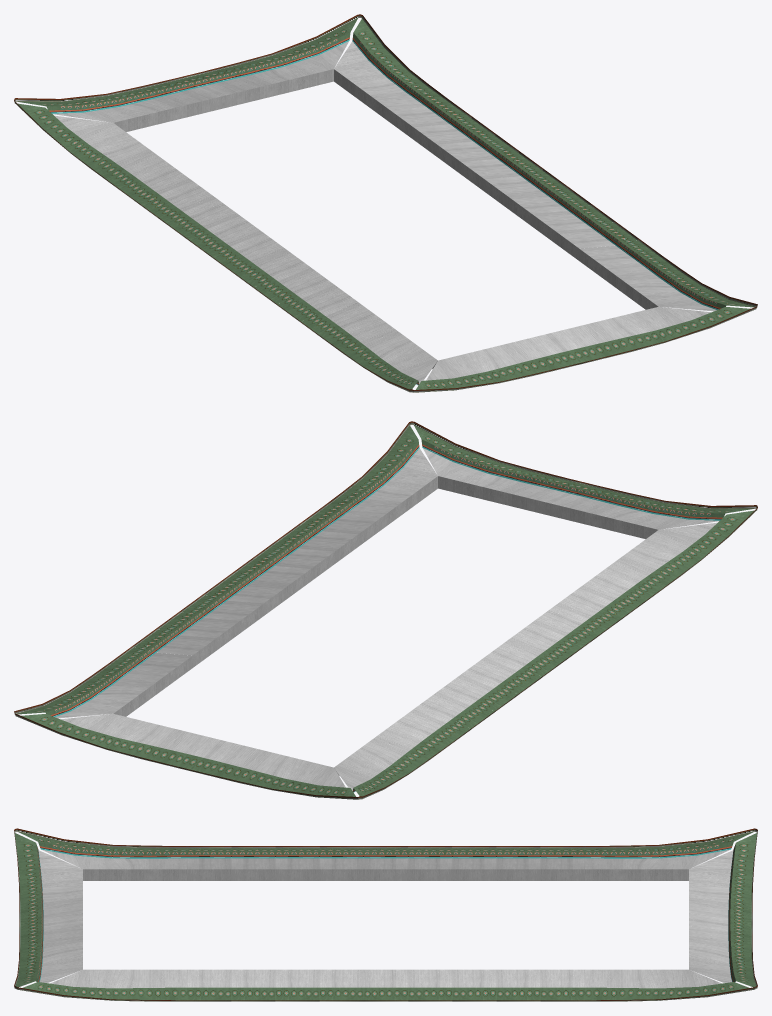
Rendered from SM_Roofplate08A.fbx.
3 views of the same model, one above another, from view 1: azimuth 30°, elevation 25°; view 2: azimuth 150°, elevation 25°; view 3: azimuth 270°, elevation 25° (orthographic). The views are drawn at different scales.
Parts seen in each view (by area): view 1: SM_Roofplate08A; view 2: SM_Roofplate08A; view 3: SM_Roofplate08A.
Part boxes in pixels (x1,y1,x2,y2): SM_Roofplate08A: [14, 14, 757, 392]; SM_Roofplate08A: [14, 421, 757, 799]; SM_Roofplate08A: [14, 828, 757, 1001].
Bounding box in the file's own units: 1411 × 2794 × 98.57.
Materials: 1 (1 with a texture image).
